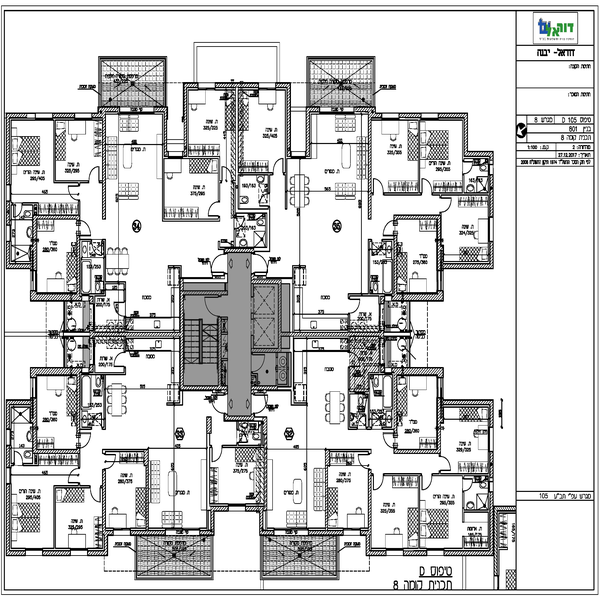room: (176, 275, 306, 399), (3, 446, 110, 558), (365, 469, 493, 558), (369, 110, 496, 196), (183, 81, 290, 175), (301, 101, 373, 223), (100, 109, 167, 227), (31, 214, 93, 304), (435, 392, 497, 478), (4, 110, 60, 204), (160, 153, 226, 227), (385, 371, 442, 453)
